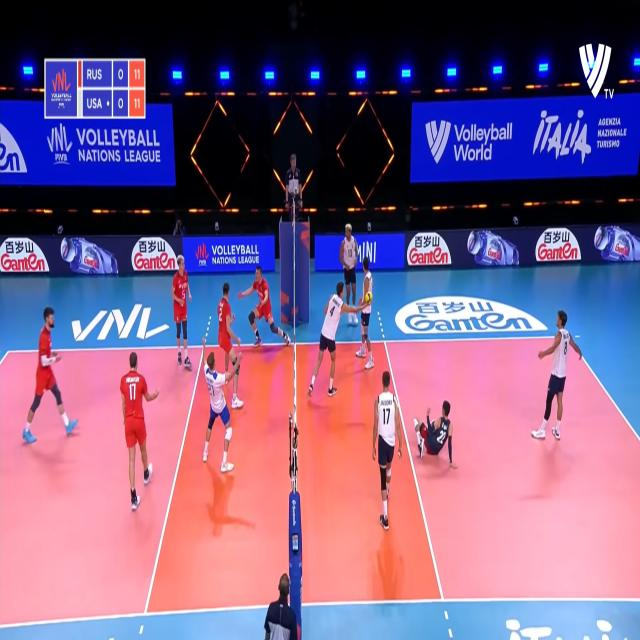player: (24, 306, 78, 444), (532, 306, 580, 445), (199, 336, 242, 476), (119, 353, 157, 508), (309, 279, 354, 402), (369, 366, 400, 533), (242, 258, 292, 361), (217, 278, 243, 414), (170, 252, 194, 372), (414, 399, 454, 469), (340, 218, 362, 328), (359, 253, 373, 369)
